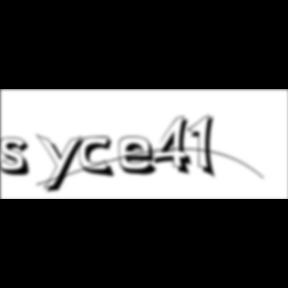1: (187, 114, 222, 182)
4: (152, 115, 198, 179)
c: (79, 136, 119, 180)
e: (119, 135, 165, 178)
s: (1, 137, 37, 179)
y: (37, 132, 91, 196)
